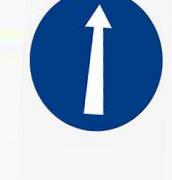forward: (29, 1, 163, 132)
